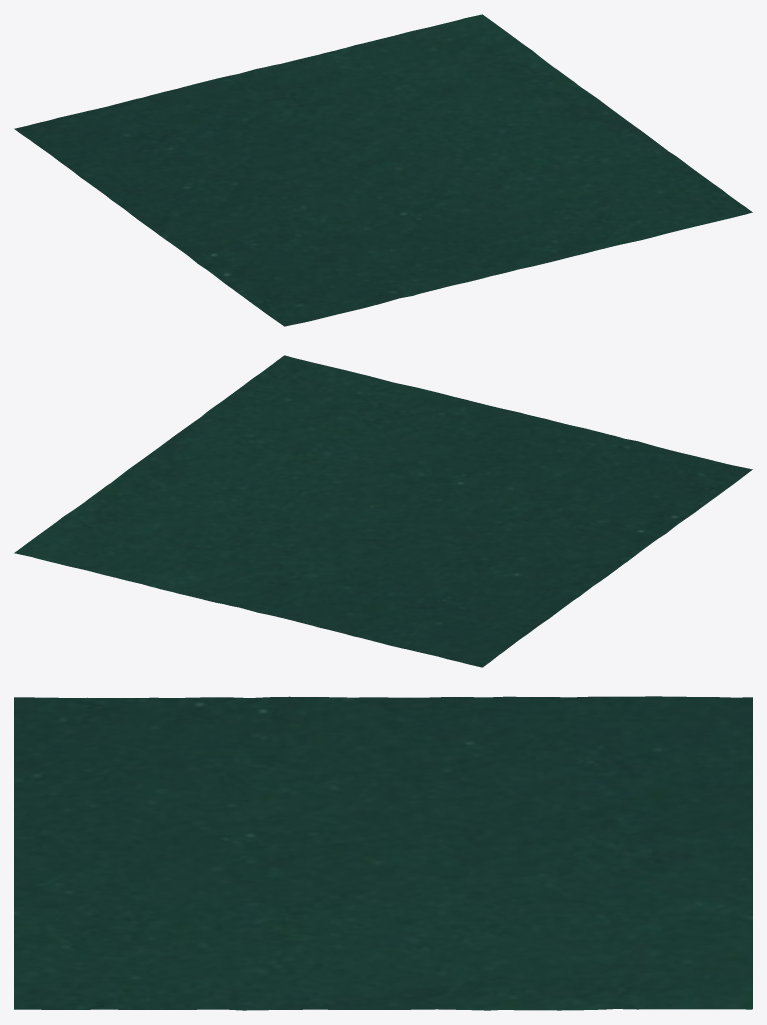
The picture shows the model from 3 angles, top to bottom: view 1: azimuth 30°, elevation 25°; view 2: azimuth 150°, elevation 25°; view 3: azimuth 270°, elevation 25°; orthographic projection. The views are drawn at different scales.
Size of the model in its own units: 104 by 0.4523 by 104.
2 materials, 2 textured.
